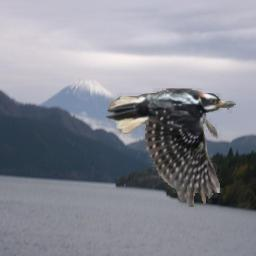Woodpecker: (106, 88, 236, 207)
